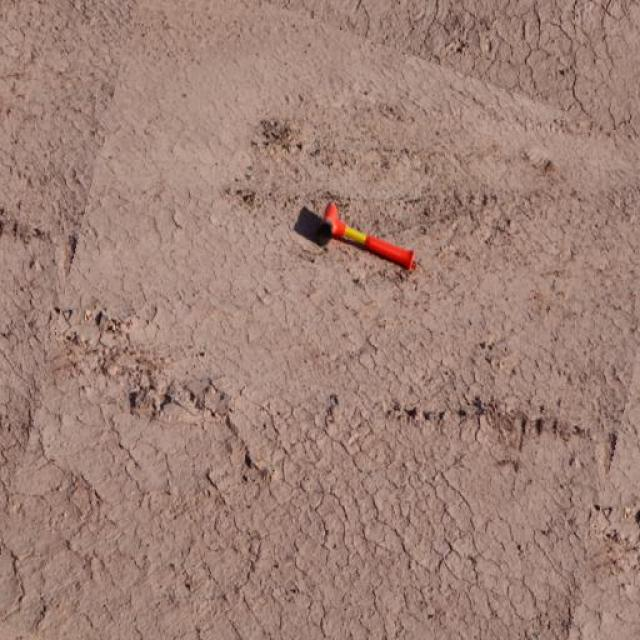mallet: (293, 198, 417, 272)
